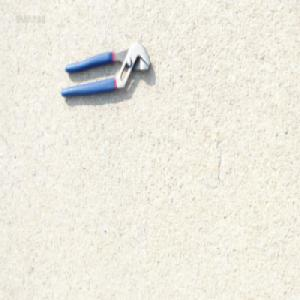Pliers: (60, 40, 152, 101)
